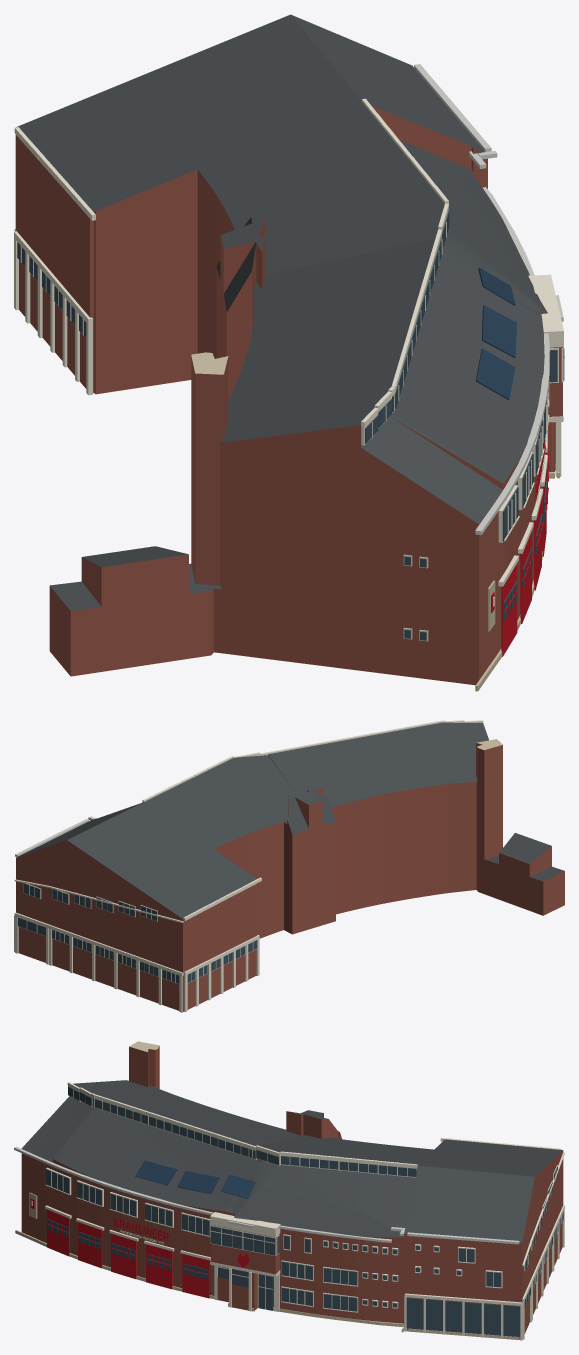
Rendered from fire-station-hendrik.glb.
3 renders of one model, top to bottom at view 1: azimuth 30°, elevation 25°; view 2: azimuth 150°, elevation 25°; view 3: azimuth 270°, elevation 25°, orthographic. The views are drawn at different scales.
Visible parts, largest first — view 1: fire-station-hendrik; view 2: fire-station-hendrik; view 3: fire-station-hendrik.
Part boxes in pixels (x1,y1,x2,y2): fire-station-hendrik: (14,14,564,691); fire-station-hendrik: (14,720,564,1012); fire-station-hendrik: (14,1041,564,1340).
Bounding box in the file's own units: 46.16 × 17.34 × 58.52.
